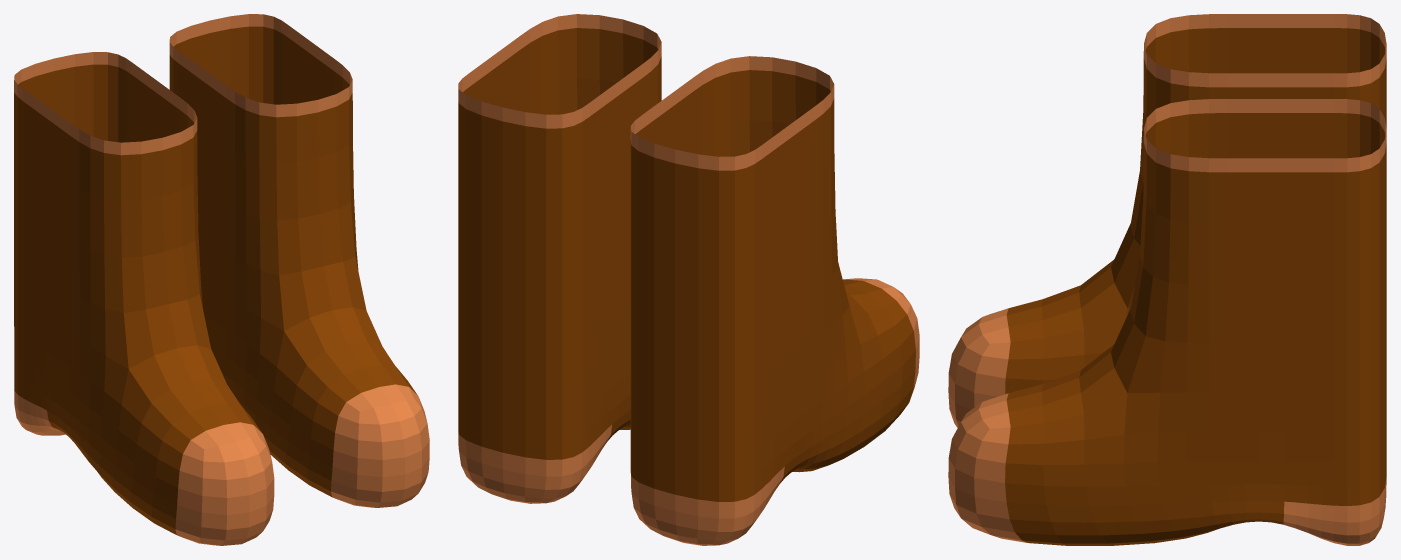
File: cowboyBoots.fbx
The picture shows the model from 3 angles, left to right: view 1: azimuth 30°, elevation 25°; view 2: azimuth 150°, elevation 25°; view 3: azimuth 270°, elevation 25°; orthographic projection. The views are drawn at different scales.
Parts seen in each view (by area): view 1: Cube.002; view 2: Cube.002; view 3: Cube.002.
Part boxes in pixels (left/top/right/bottom): Cube.002: left=14, top=14, right=429, bottom=545; Cube.002: left=458, top=14, right=919, bottom=545; Cube.002: left=948, top=14, right=1386, bottom=545.
Size of the model in its own units: 238 by 309 by 303.
